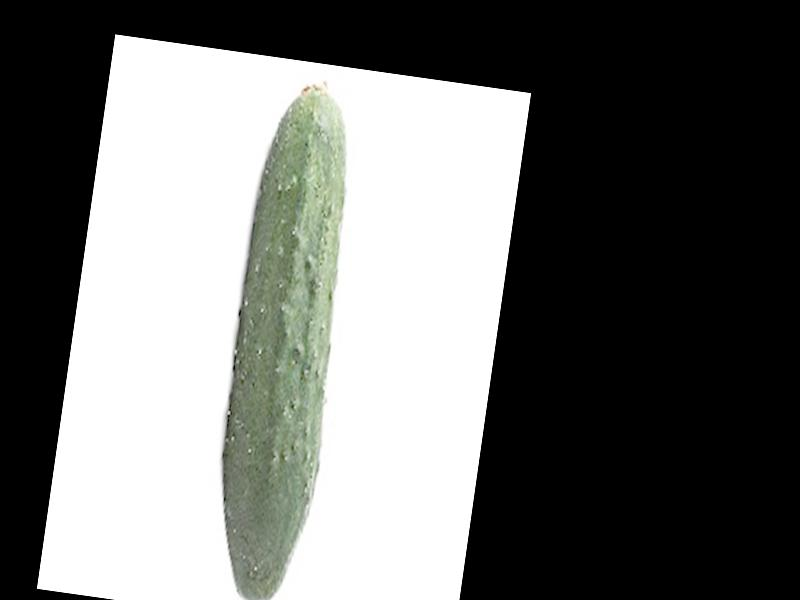Cucumber: (200, 76, 370, 600)
